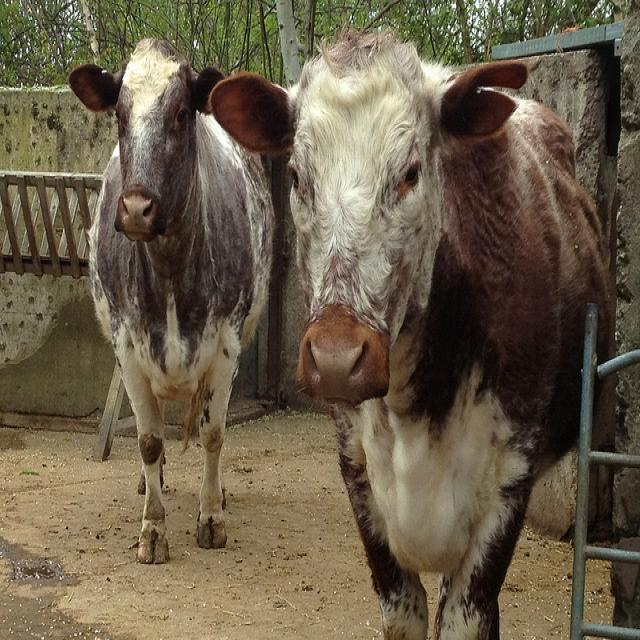cow: (207, 25, 617, 635), (66, 32, 274, 553)
